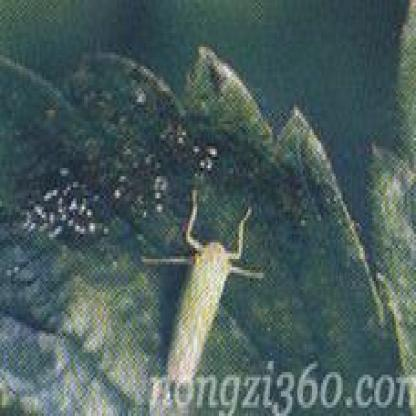Green-Leafhopper: (146, 190, 266, 382)
